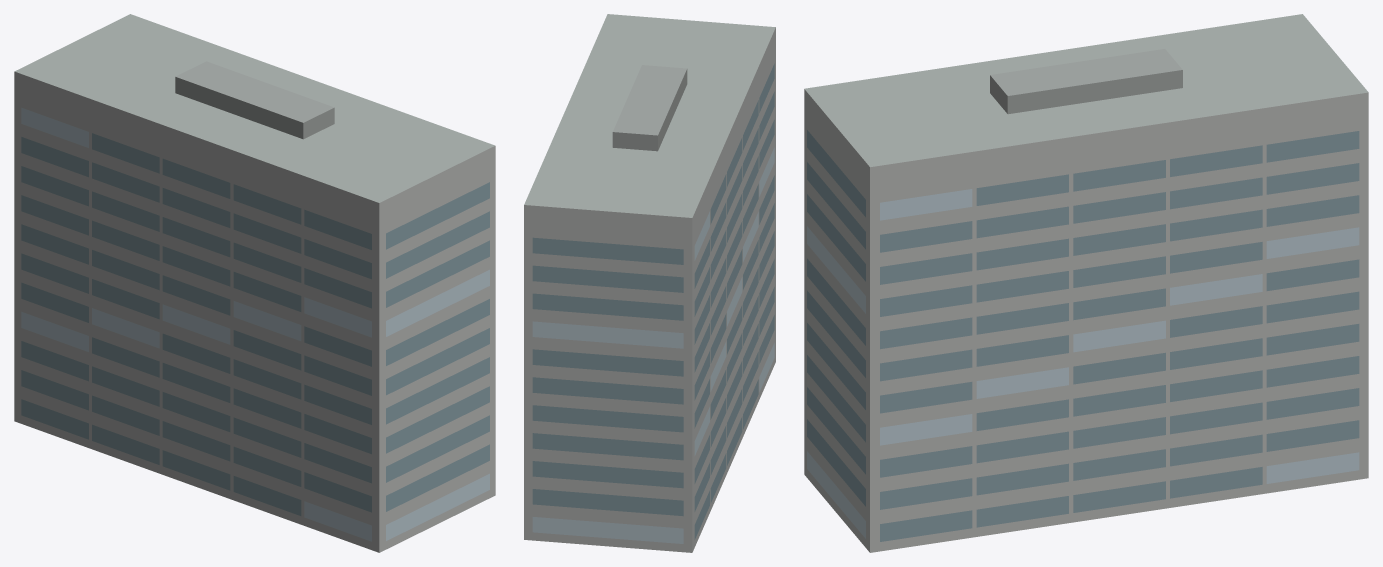
Rendered from apt-a10027935.glb.
3 renders of one model, left to right at view 1: azimuth 30°, elevation 25°; view 2: azimuth 150°, elevation 25°; view 3: azimuth 270°, elevation 25°, orthographic. The views are drawn at different scales.
Parts seen in each view (by area): view 1: apt-a10027935; view 2: apt-a10027935; view 3: apt-a10027935.
Boxes of the visible parts, bbox=[...] form: apt-a10027935: bbox=[14, 14, 495, 552]; apt-a10027935: bbox=[524, 14, 775, 552]; apt-a10027935: bbox=[804, 14, 1368, 552].
Size of the model in its own units: 29.3 by 36 by 45.61.
